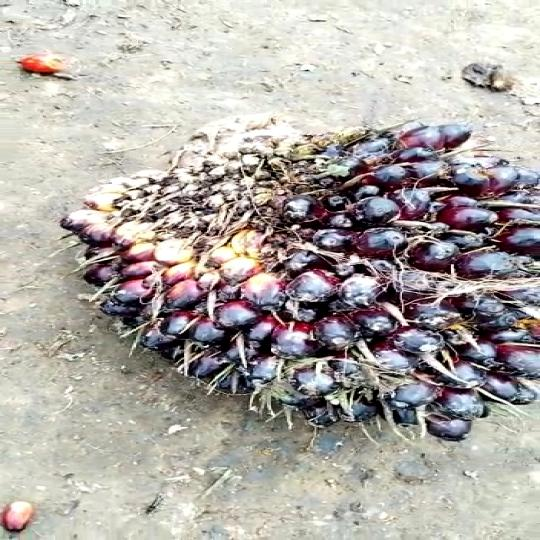mentah: (62, 110, 540, 444)
